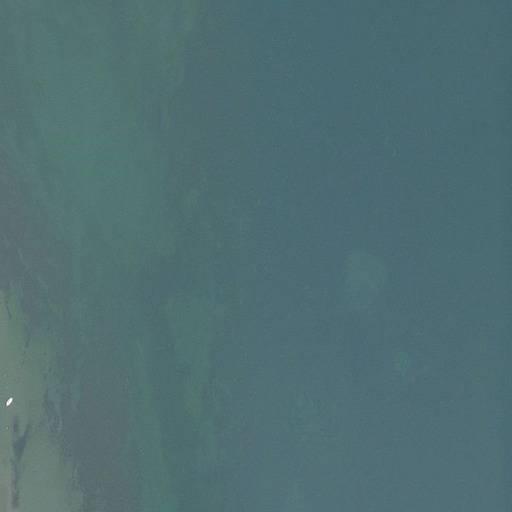ship: (5, 398, 11, 408)
